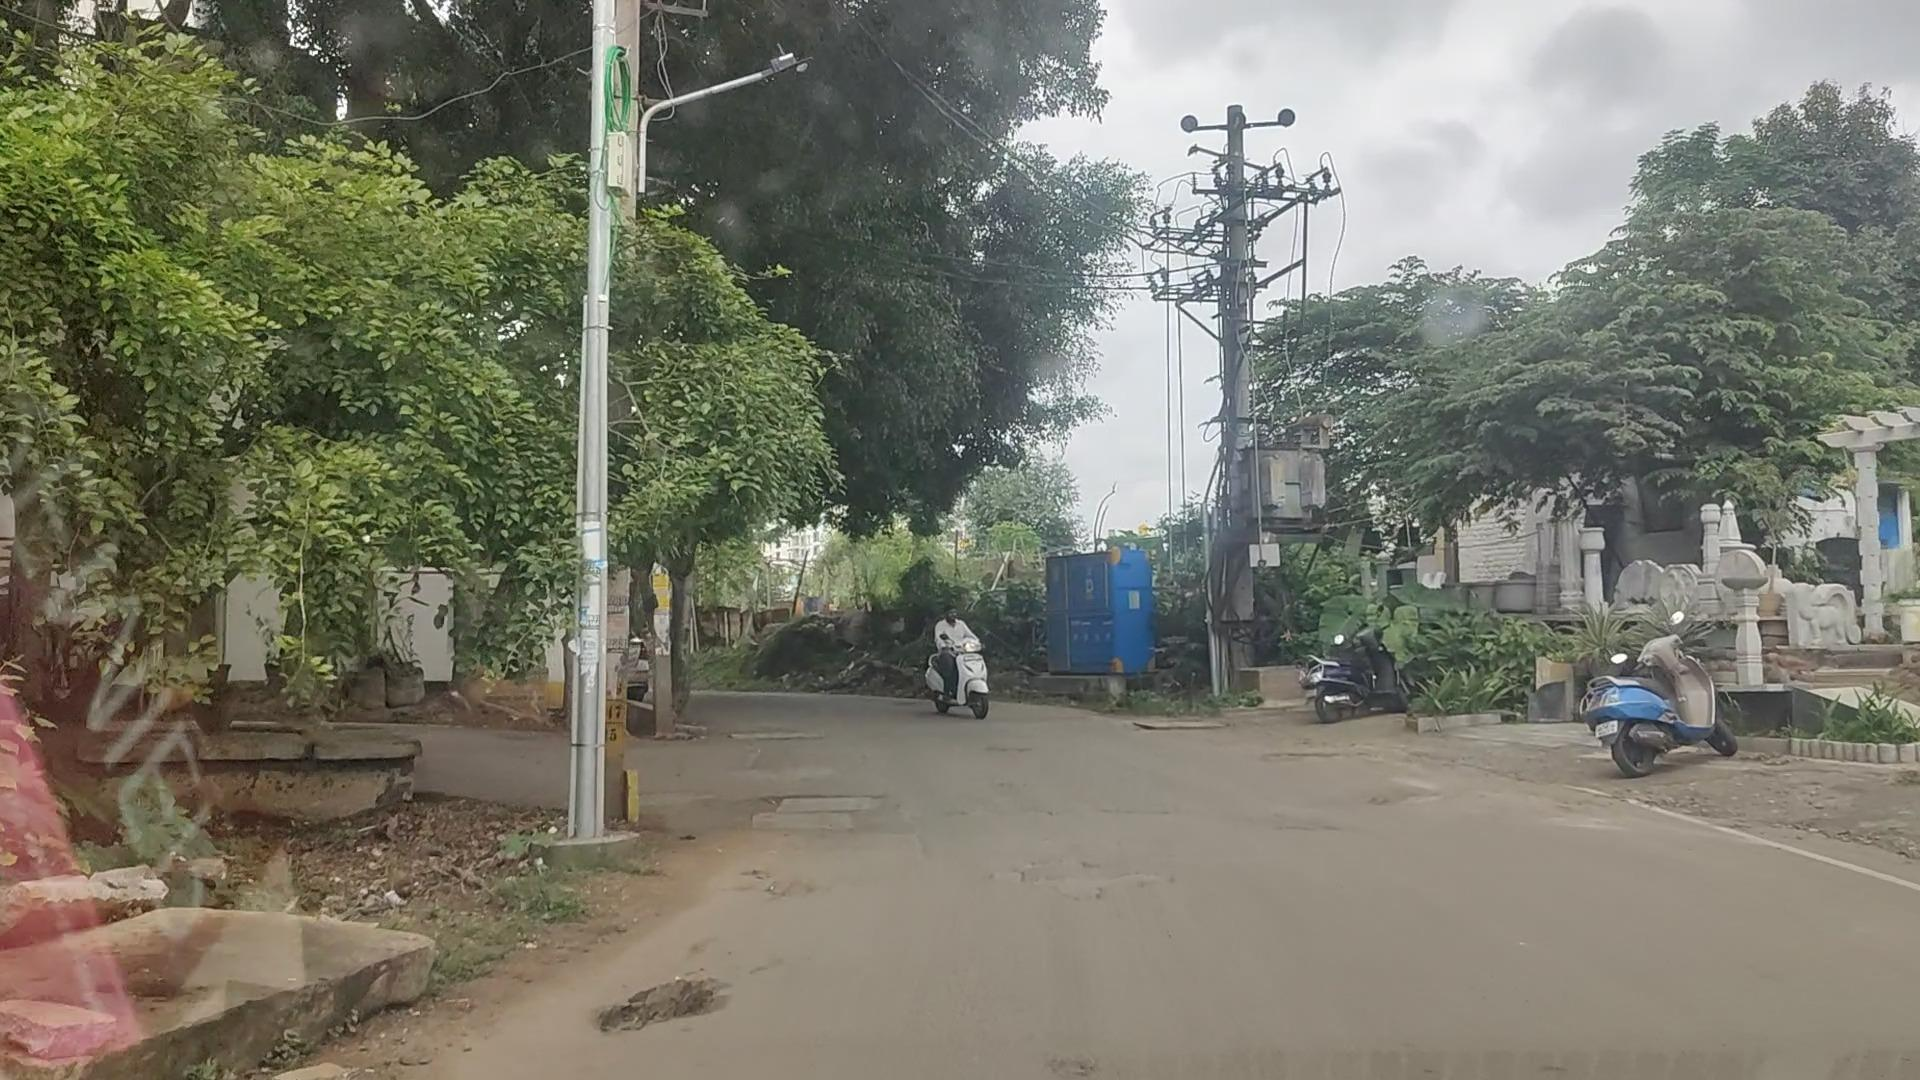LMV: (926, 607, 992, 716)
RoadDamages: (593, 969, 727, 1042), (738, 785, 889, 845)
